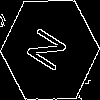N: (25, 25, 75, 79)
